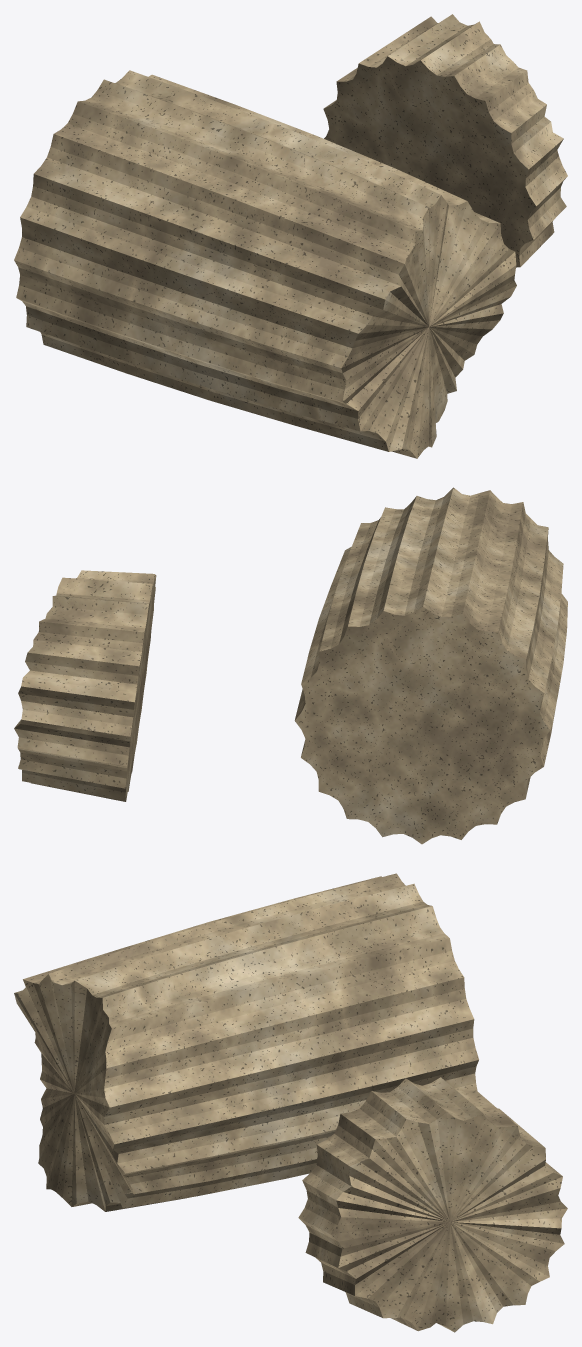
File: rocchio_colonna_caduto.gltf
3 renders of one model, top to bottom at view 1: azimuth 30°, elevation 25°; view 2: azimuth 150°, elevation 25°; view 3: azimuth 270°, elevation 25°, orthographic. The views are drawn at different scales.
Parts seen in each view (by area): view 1: rocchio_colonna_caduto; view 2: rocchio_colonna_caduto; view 3: rocchio_colonna_caduto.
Part boxes in pixels (bbox=[...]): rocchio_colonna_caduto: bbox=[14, 14, 567, 458]; rocchio_colonna_caduto: bbox=[14, 487, 567, 844]; rocchio_colonna_caduto: bbox=[14, 873, 567, 1332].
Size of the model in its own units: 1.77 by 0.9123 by 1.66.
1 material, 1 textured.
